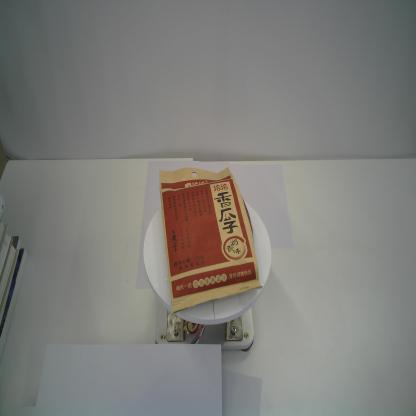Dried Food: (158, 166, 263, 316)
